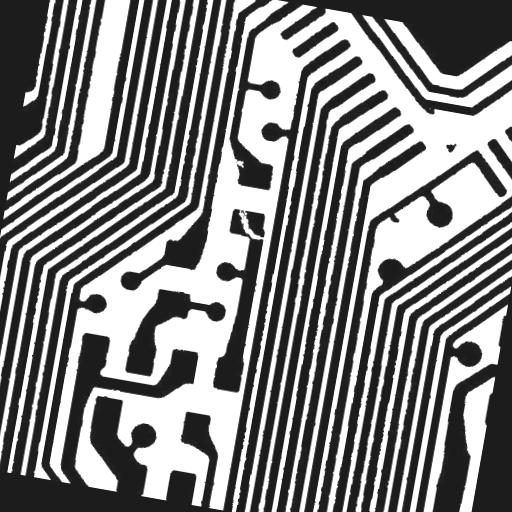copper: (436, 132, 464, 162)
mousebite: (223, 149, 253, 176)
open: (225, 196, 278, 248)
spur: (411, 92, 444, 122), (378, 202, 408, 230)
